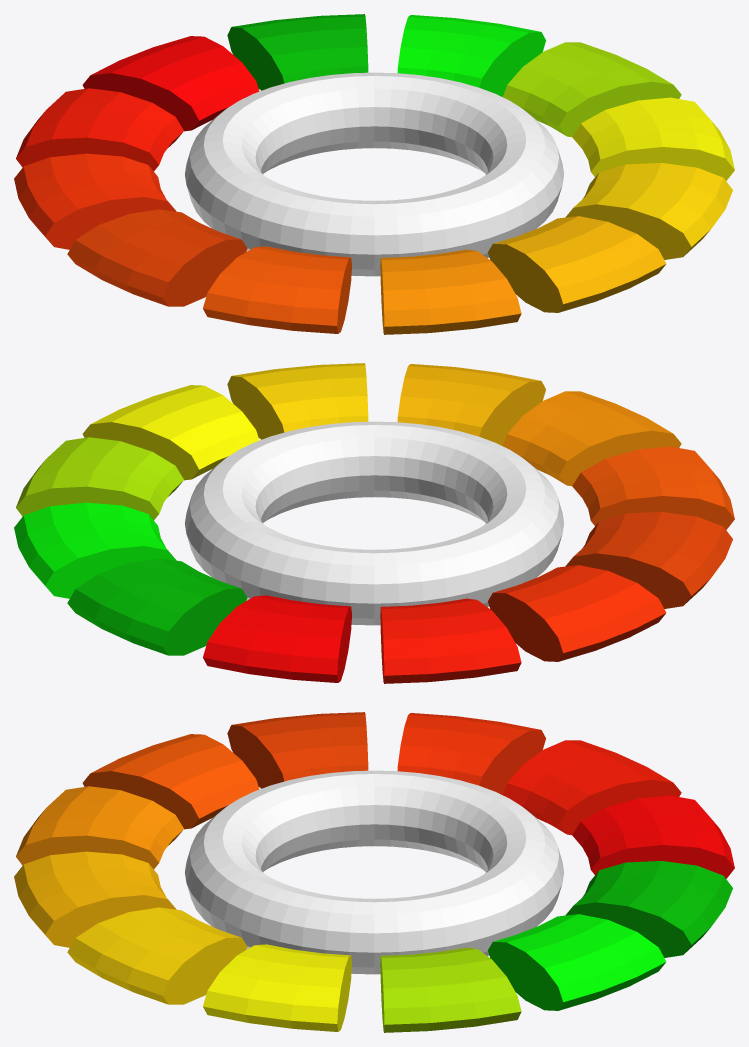
File: GaugeDonut.fbx
The picture shows the model from 3 angles, top to bottom: view 1: azimuth 30°, elevation 25°; view 2: azimuth 150°, elevation 25°; view 3: azimuth 270°, elevation 25°; orthographic projection.
Parts seen in each view (by area): view 1: Donut, Gauge7, Gauge4, Gauge5, Gauge8, Gauge6, Gauge3, Gauge10, Gauge1, Gauge9, Gauge2, Gauge11 (+1 smaller); view 2: Donut, Gauge3, Gauge12, Gauge1, Gauge4, Gauge2, Gauge11, Gauge6, Gauge9, Gauge5, Gauge10, Gauge7 (+1 smaller); view 3: Donut, Gauge11, Gauge8, Gauge9, Gauge12, Gauge10, Gauge7, Gauge2, Gauge5, Gauge1, Gauge6, Gauge3 (+1 smaller).
Boxes of the visible parts, left/top/right/bottom form: Donut: left=185, top=72, right=563, bottom=276; Gauge7: left=488, top=216, right=666, bottom=312; Gauge4: left=67, top=209, right=247, bottom=306; Gauge5: left=203, top=246, right=351, bottom=333; Gauge8: left=565, top=163, right=732, bottom=259; Gauge6: left=380, top=249, right=521, bottom=334; Gauge3: left=14, top=153, right=176, bottom=249; Gauge10: left=503, top=42, right=681, bottom=137; Gauge1: left=82, top=36, right=259, bottom=131; Gauge9: left=572, top=97, right=734, bottom=180; Gauge2: left=16, top=88, right=183, bottom=171; Gauge11: left=397, top=15, right=545, bottom=96; Donut: left=185, top=421, right=563, bottom=625; Gauge3: left=488, top=565, right=666, bottom=661; Gauge12: left=67, top=558, right=247, bottom=655; Gauge1: left=203, top=595, right=351, bottom=682; Gauge4: left=565, top=512, right=732, bottom=608; Gauge2: left=380, top=598, right=521, bottom=683; Gauge11: left=14, top=502, right=176, bottom=598; Gauge6: left=503, top=391, right=681, bottom=486; Gauge9: left=82, top=385, right=259, bottom=480; Gauge5: left=572, top=446, right=734, bottom=529; Gauge10: left=16, top=437, right=183, bottom=520; Gauge7: left=397, top=364, right=545, bottom=445; Donut: left=185, top=770, right=563, bottom=974; Gauge11: left=488, top=914, right=666, bottom=1010; Gauge8: left=67, top=907, right=247, bottom=1004; Gauge9: left=203, top=944, right=351, bottom=1031; Gauge12: left=565, top=861, right=732, bottom=957; Gauge10: left=380, top=947, right=521, bottom=1032; Gauge7: left=14, top=851, right=176, bottom=947; Gauge2: left=503, top=740, right=681, bottom=835; Gauge5: left=82, top=734, right=259, bottom=829; Gauge1: left=572, top=795, right=734, bottom=878; Gauge6: left=16, top=786, right=183, bottom=869; Gauge3: left=397, top=713, right=545, bottom=794.
Bounding box in the file's own units: 89.47 × 9.42 × 89.47.
